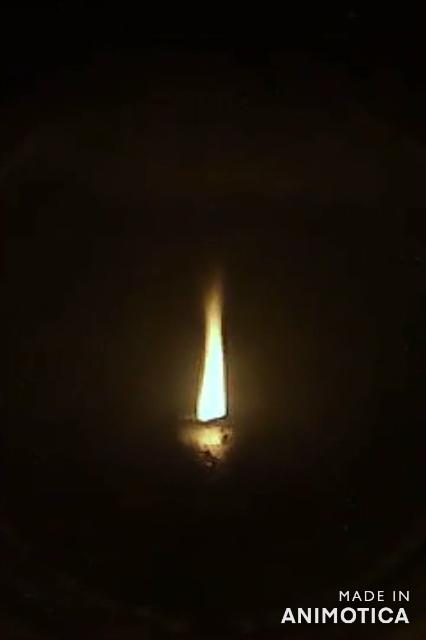burner flame: (194, 268, 230, 424)
